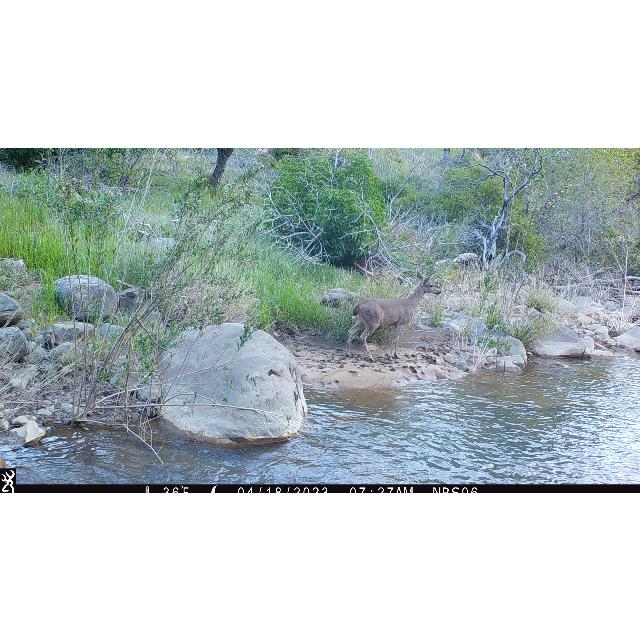animals: (344, 272, 444, 364)
